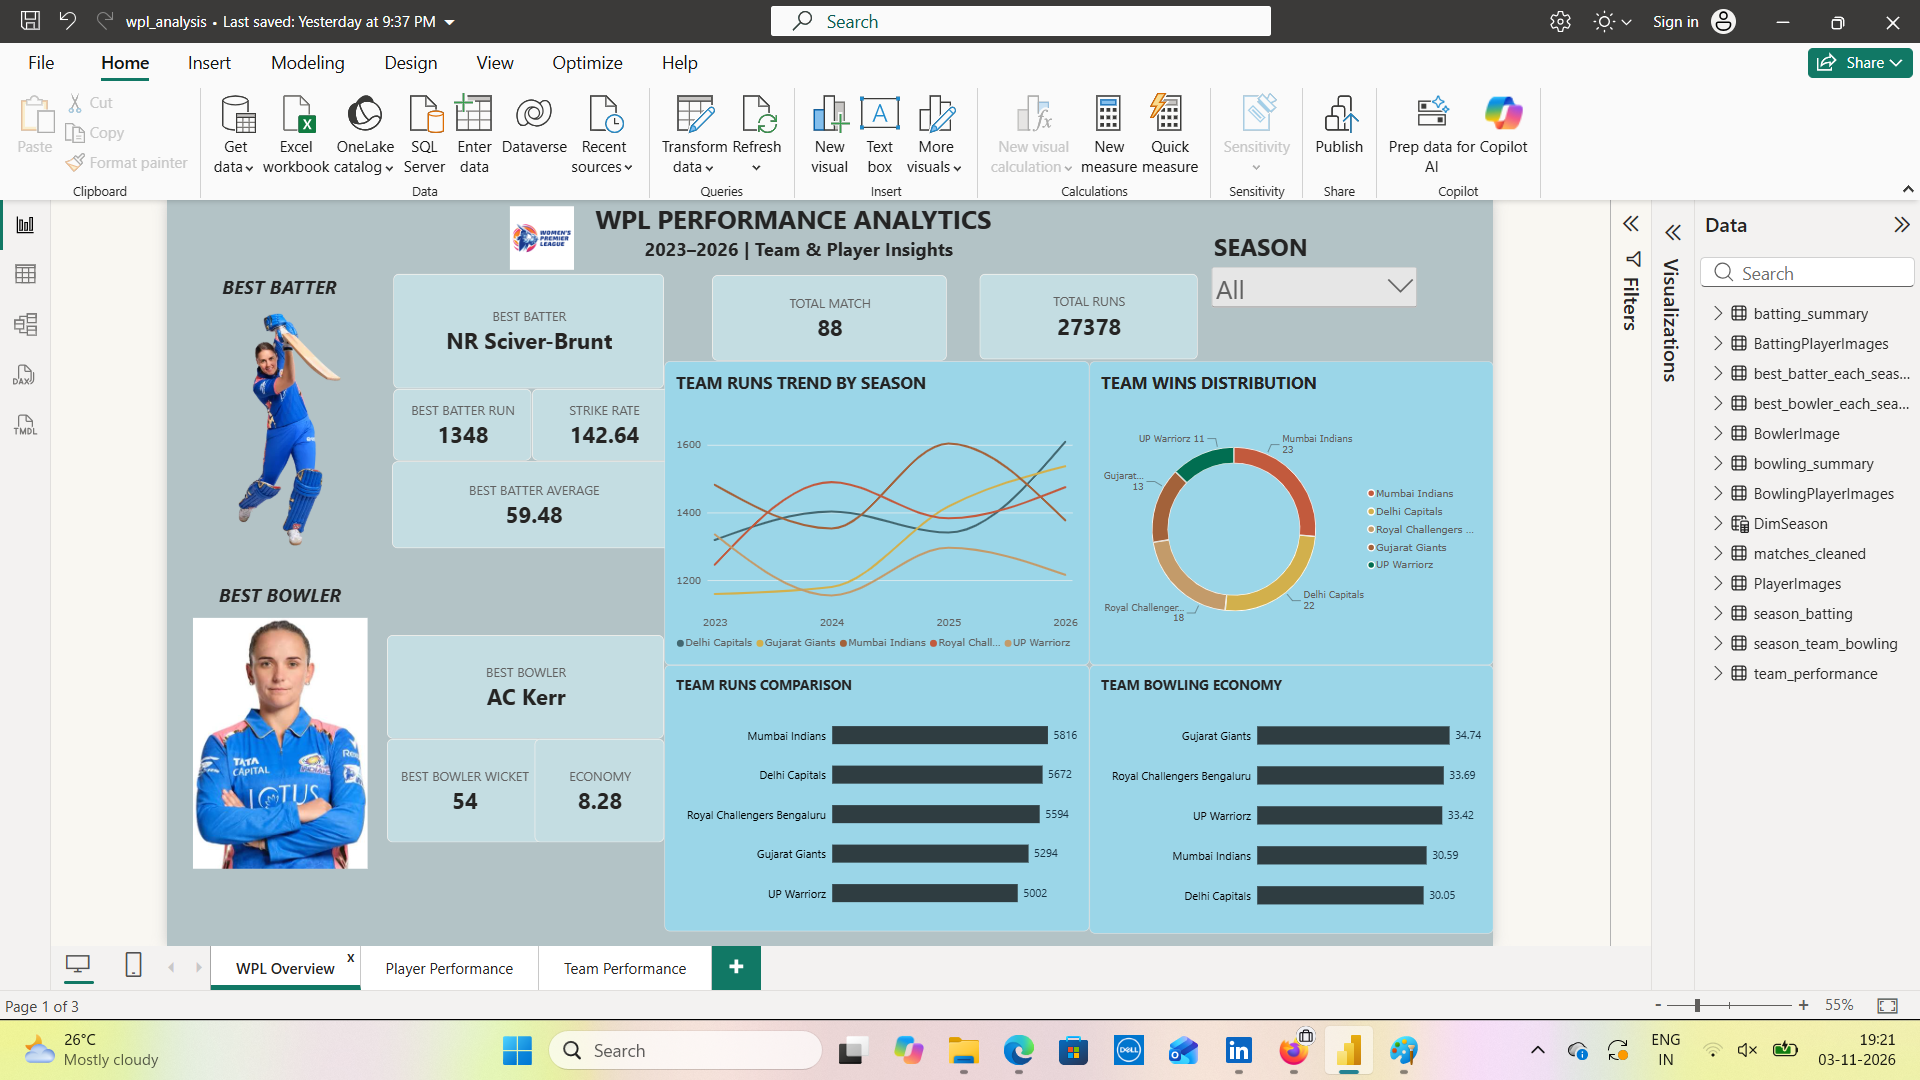

The dashboard page shown, as its layout file describes it:
{"tool":"powerbi","page":{"name":"WPL Overview","canvas":[1920,1080],"ordinal":0},"visuals":[{"type":"cardVisual","fields":{"Data":["Count(matches_cleaned.match_id)"]},"box":[789,108.6,340.2,124.9],"z":0},{"type":"textbox","box":[430.7,0,960.9,106.8],"z":1000},{"type":"cardVisual","fields":{"Data":["matches_cleaned.Total Runs"]},"box":[1176.3,106.8,316.7,124.9],"z":2000},{"type":"slicer","fields":{"Values":["DimSeason.Season"]},"box":[1507.4,43.4,307.6,130.3],"z":3000},{"type":"cardVisual","fields":{"Data":["best_batter_each_season.Overall Best Batter Runs"]},"box":[327.5,273.3,200.9,105],"z":4000},{"type":"cardVisual","fields":{"Data":["Min(best_bowler_each_season.bowler)"]},"box":[318.5,629.8,401.7,150.2],"z":5000},{"type":"cardVisual","fields":{"Data":["best_bowler_each_season.Overall Best Bowler Wickets"]},"box":[318.5,780,224.4,150.2],"z":6000},{"type":"cardVisual","fields":{"Data":["Max(best_bowler_each_season.economy)"]},"box":[532,780,188.2,150.2],"z":7000},{"type":"cardVisual","fields":{"Data":["Avg(best_batter_each_season.batting_average)"]},"box":[325.7,378.2,410.8,126.7],"z":8000},{"type":"cardVisual","fields":{"Data":["Avg(best_batter_each_season.strike_rate)"]},"box":[528.4,273.3,208.1,105],"z":9000},{"type":"image","title":"BEST BATTER","box":[0,106.8,325.7,398.1],"z":10000},{"type":"cardVisual","fields":{"Data":["best_batter_each_season.Selected Best Batter Name"]},"box":[327.5,106.8,392.7,166.5],"z":11000},{"type":"image","title":"BEST BOWLER","box":[0,553.8,327.5,414.4],"z":12000},{"type":"image","box":[494,9,97.7,92.3],"z":13000},{"type":"clusteredBarChart","title":"TEAM RUNS COMPARISON","fields":{"Category":["season_batting.team"],"Y":["Sum(season_batting.total_runs)"]},"box":[720.2,673.2,615.3,385.5],"z":14000},{"type":"donutChart","title":"TEAM WINS DISTRIBUTION","fields":{"Category":["matches_cleaned.winner"],"Y":["matches_cleaned.Team Wins"]},"box":[1335.5,233.4,584.5,439.7],"z":15000},{"type":"lineChart","title":"TEAM RUNS TREND BY SEASON","fields":{"Category":["season_batting.season_label"],"Series":["season_batting.team"],"Y":["Sum(season_batting.total_runs)"]},"box":[720.2,233.4,615.3,439.7],"z":16000},{"type":"clusteredBarChart","title":"TEAM BOWLING ECONOMY","fields":{"Category":["season_team_bowling.team"],"Y":["Sum(season_team_bowling.economy)"]},"box":[1335.5,673.2,584.5,389.1],"z":17000}]}

Visuals, with their boxes on the page's 1920x1080 design canvas (x1, y1, x2, y2). These are canvas units, not pixel positions in the 1920x1080 screenshot, which may show the page scaled, cropped or inside an application window:
cardVisual - Count(matches_cleaned.match_id): x1=789, y1=109, x2=1129, y2=234
textbox: x1=431, y1=0, x2=1392, y2=107
cardVisual - matches_cleaned.Total Runs: x1=1176, y1=107, x2=1493, y2=232
slicer - DimSeason.Season: x1=1507, y1=43, x2=1815, y2=174
cardVisual - best_batter_each_season.Overall Best Batter Runs: x1=328, y1=273, x2=528, y2=378
cardVisual - Min(best_bowler_each_season.bowler): x1=318, y1=630, x2=720, y2=780
cardVisual - best_bowler_each_season.Overall Best Bowler Wickets: x1=318, y1=780, x2=543, y2=930
cardVisual - Max(best_bowler_each_season.economy): x1=532, y1=780, x2=720, y2=930
cardVisual - Avg(best_batter_each_season.batting_average): x1=326, y1=378, x2=736, y2=505
cardVisual - Avg(best_batter_each_season.strike_rate): x1=528, y1=273, x2=736, y2=378
"BEST BATTER" image: x1=0, y1=107, x2=326, y2=505
cardVisual - best_batter_each_season.Selected Best Batter Name: x1=328, y1=107, x2=720, y2=273
"BEST BOWLER" image: x1=0, y1=554, x2=328, y2=968
image: x1=494, y1=9, x2=592, y2=101
"TEAM RUNS COMPARISON" clusteredBarChart: x1=720, y1=673, x2=1336, y2=1059
"TEAM WINS DISTRIBUTION" donutChart: x1=1336, y1=233, x2=1920, y2=673
"TEAM RUNS TREND BY SEASON" lineChart: x1=720, y1=233, x2=1336, y2=673
"TEAM BOWLING ECONOMY" clusteredBarChart: x1=1336, y1=673, x2=1920, y2=1062
